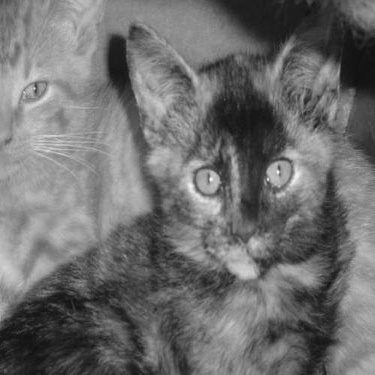cat: (47, 12, 363, 365), (1, 2, 158, 283)
